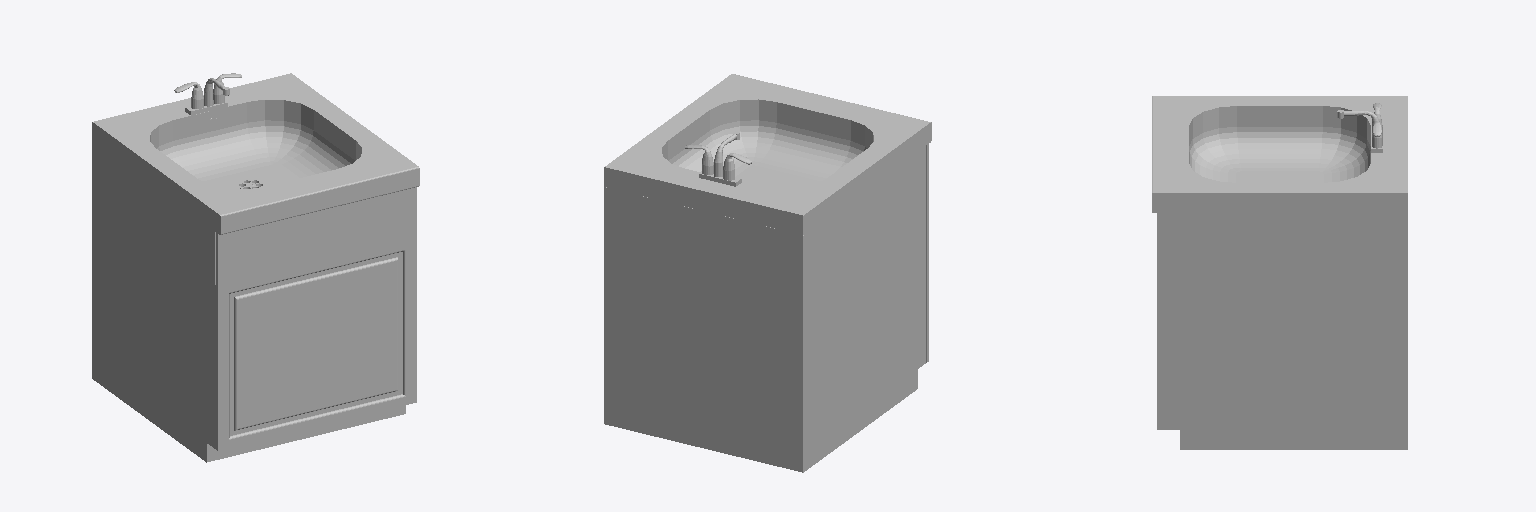
Rendered from Sink.obj.
The picture shows the model from 3 angles: view 1: azimuth 30°, elevation 25°; view 2: azimuth 150°, elevation 25°; view 3: azimuth 270°, elevation 25°; orthographic projection.
Parts seen in each view (by area): view 1: KitchenModular:Cabinet_Door4Sink, KitchenModular:SinkKitchencabinet, Sink, KitchenModular:SinkDrawDraw_door, KitchenModular:SinkSinkbasin, KitchenModular:SinkKitchencabinet2, KitchenModular:SinkInsideCabinet3; view 2: KitchenModular:SinkInsideCabinet3, KitchenModular:SinkKitchencabinet, Sink, KitchenModular:SinkSinkbasin, KitchenModular:SinkKitchencabinet2; view 3: KitchenModular:SinkSinkbasin, KitchenModular:SinkKitchencabinet1, Sink, KitchenModular:SinkKitchencabinet2, KitchenModular:SinkInsideCabinet3, KitchenModular:Cabinet_Door4Sink.
Part boxes in pixels (left/top/right/bottom): KitchenModular:Cabinet_Door4Sink: left=215, top=239, right=416, bottom=450; KitchenModular:SinkKitchencabinet: left=95, top=144, right=215, bottom=448; Sink: left=92, top=73, right=419, bottom=234; KitchenModular:SinkDrawDraw_door: left=216, top=187, right=416, bottom=286; KitchenModular:SinkSinkbasin: left=156, top=118, right=356, bottom=188; KitchenModular:SinkKitchencabinet2: left=95, top=361, right=405, bottom=462; KitchenModular:SinkInsideCabinet3: left=92, top=142, right=94, bottom=380; KitchenModular:SinkInsideCabinet3: left=604, top=187, right=805, bottom=472; KitchenModular:SinkKitchencabinet: left=806, top=146, right=925, bottom=450; Sink: left=604, top=74, right=931, bottom=234; KitchenModular:SinkSinkbasin: left=667, top=118, right=867, bottom=188; KitchenModular:SinkKitchencabinet2: left=806, top=369, right=917, bottom=470; KitchenModular:SinkSinkbasin: left=1180, top=124, right=1403, bottom=322; KitchenModular:SinkKitchencabinet1: left=1162, top=213, right=1403, bottom=429; Sink: left=1152, top=96, right=1407, bottom=212; KitchenModular:SinkKitchencabinet2: left=1180, top=430, right=1403, bottom=449; KitchenModular:SinkInsideCabinet3: left=1404, top=213, right=1407, bottom=449; KitchenModular:Cabinet_Door4Sink: left=1157, top=267, right=1161, bottom=429.
Bounding box in the file's own units: 4.12 × 5.76 × 4.6.